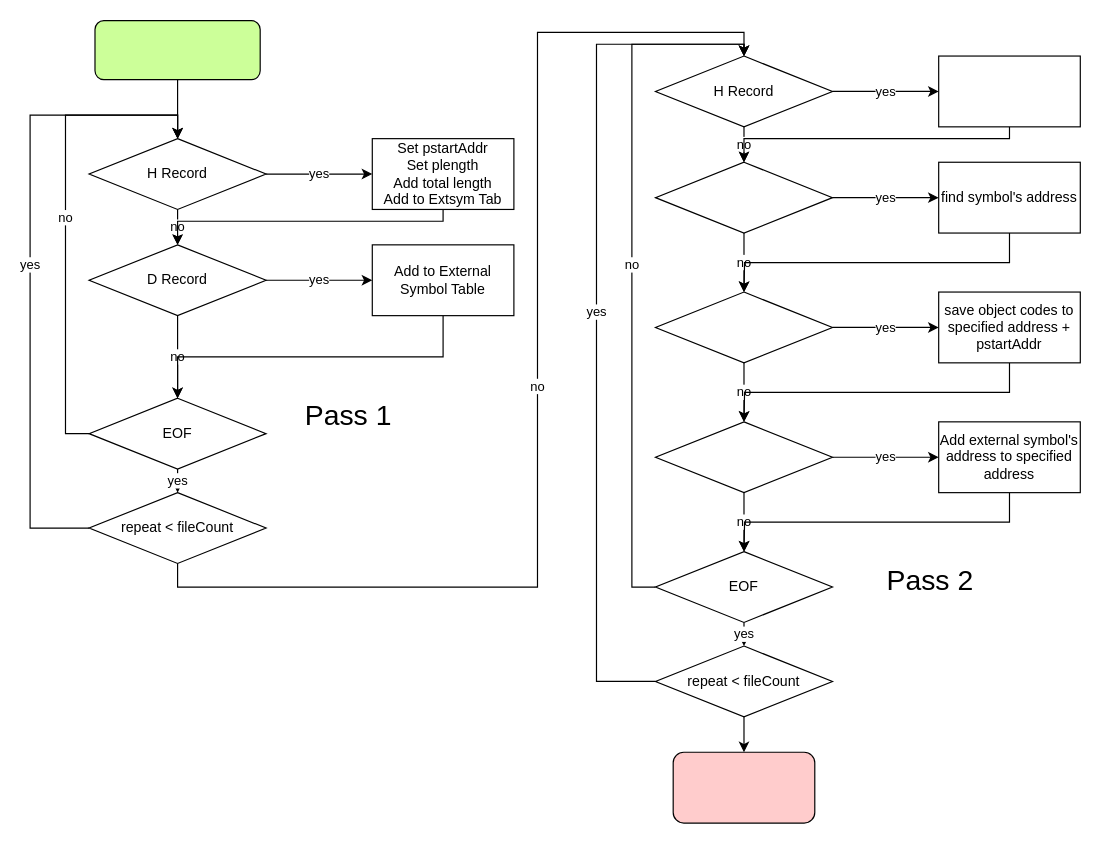
This 1101x844 diagram has some shape labels left out. Each missing label, with the centre of its shape:
"cmd_loader()" belongs at pixel 177 49.
"End of cmd_loader()" belongs at pixel 743 787.
"M Record" belongs at pixel 743 457.
"R Record" belongs at pixel 743 197.
"Set pstartAddr" belongs at pixel 1009 91.
"T Record" belongs at pixel 743 327.
